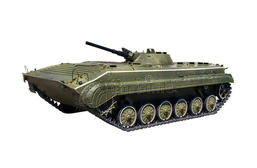bmp: (21, 39, 238, 131)
